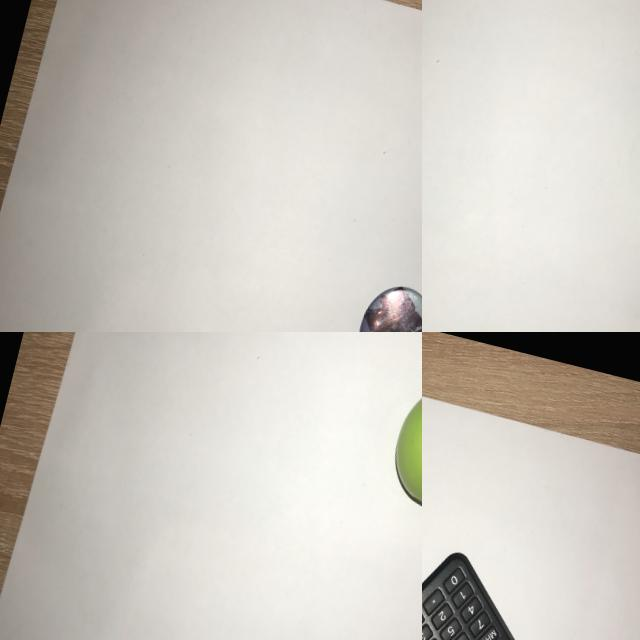calculator: (422, 529, 587, 640)
icon: (341, 268, 422, 332)
toy: (374, 368, 422, 528)
